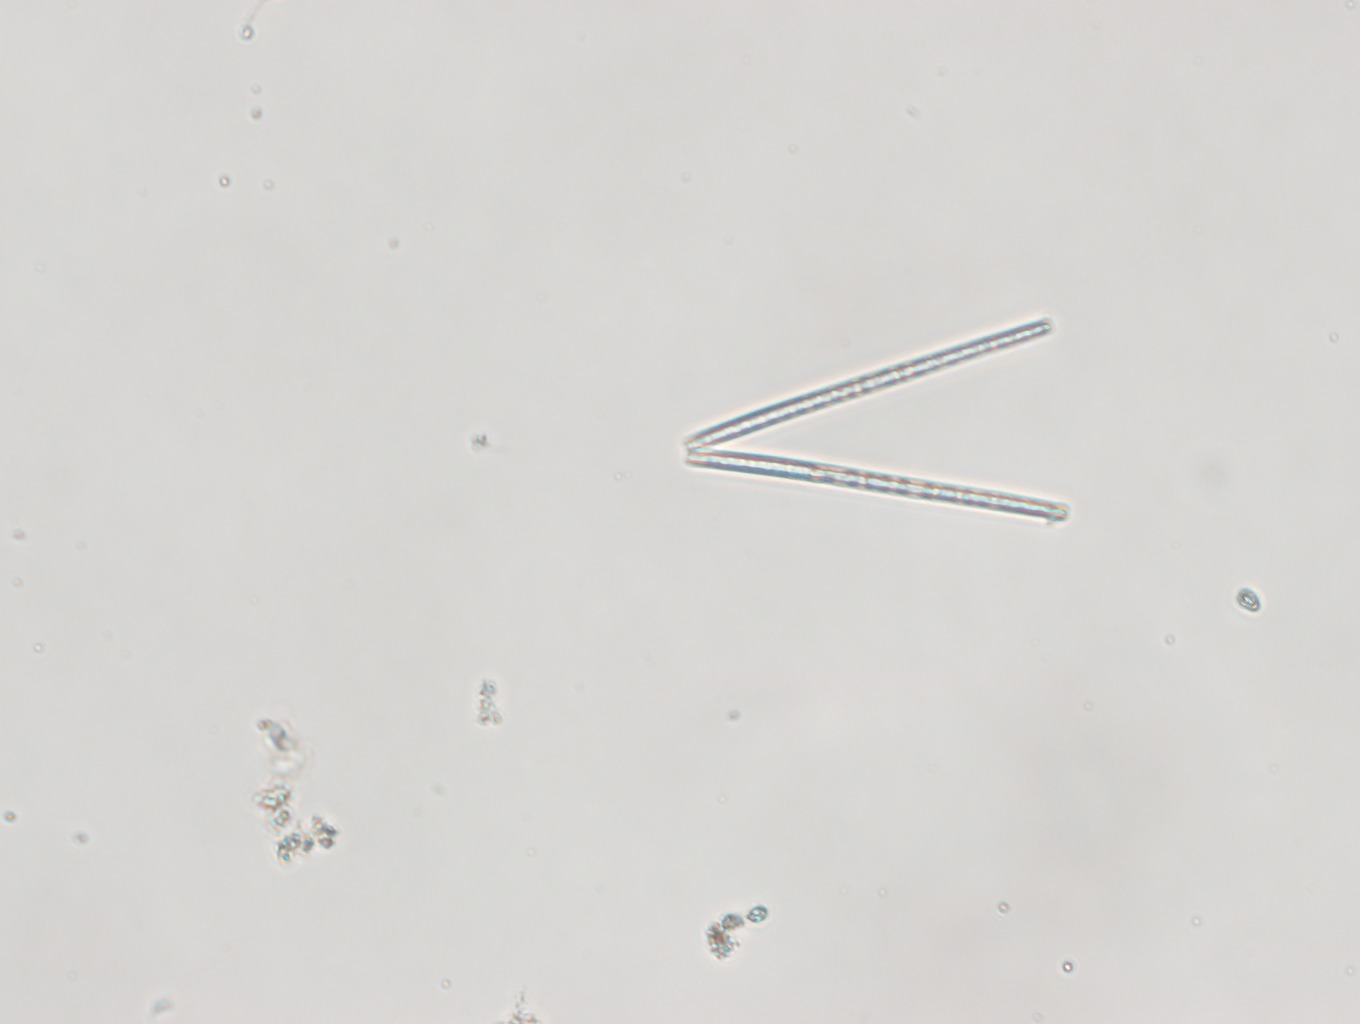thalassionema frauenfeldii: (671, 311, 1074, 535)
